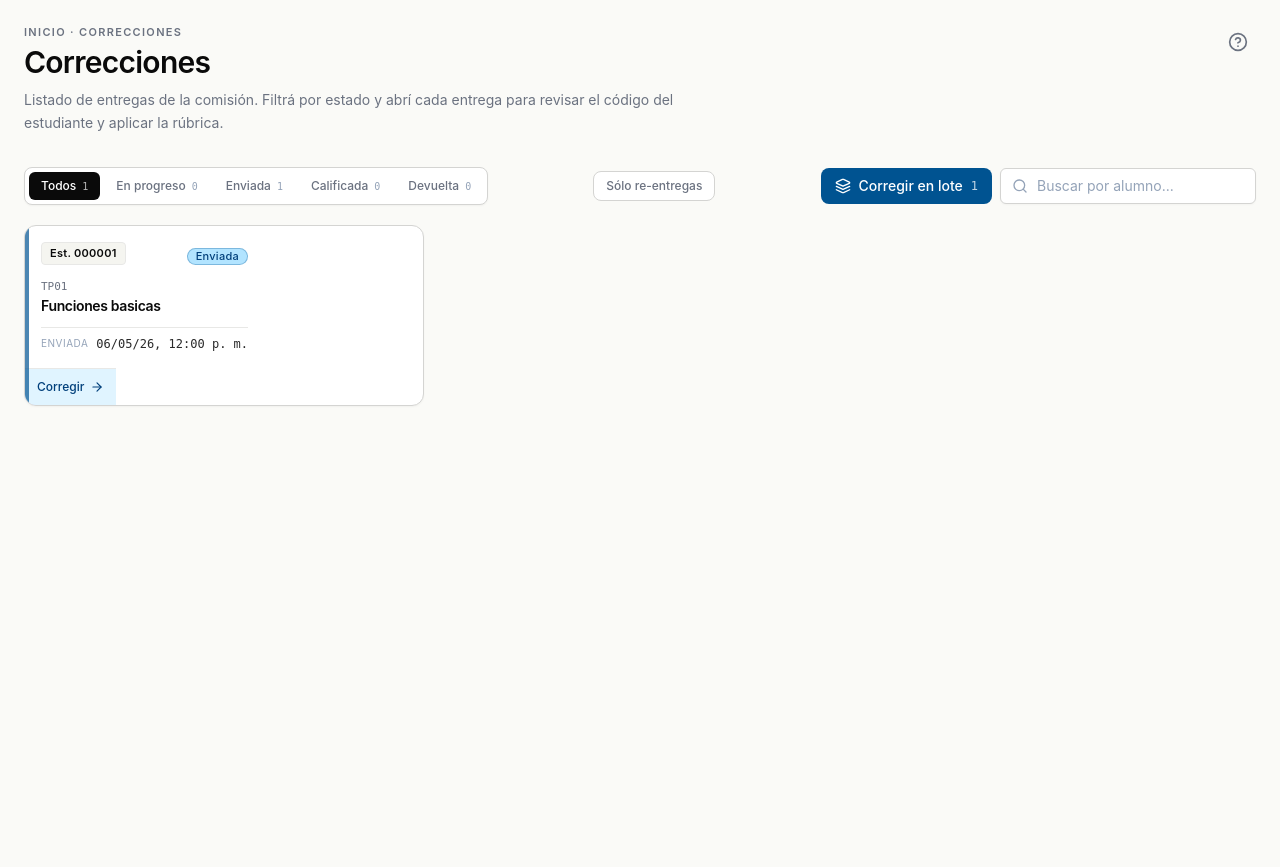
Test case: CorreccionesView — codigo entregado vs reconstruido › TP reordenada: empareja el artefacto por ejercicio_id aunque el orden no coincida
This screenshot has width=1280, height=867.
Step 1. Click the button with test id "entrega-drill-btn" → (83, 254), box [24,224,424,406]
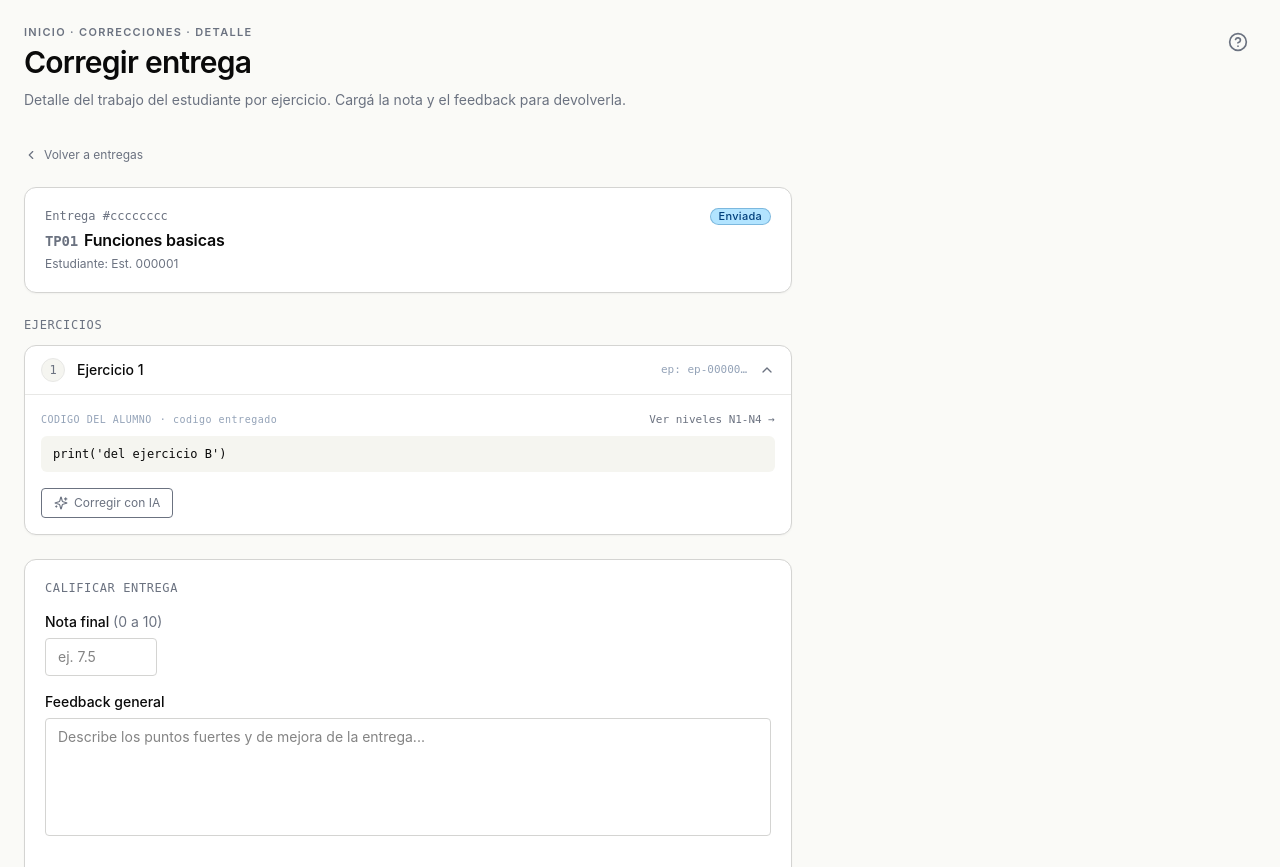
Check: the text "print('del ejercicio B')" is shown, box [41,436,775,472]
